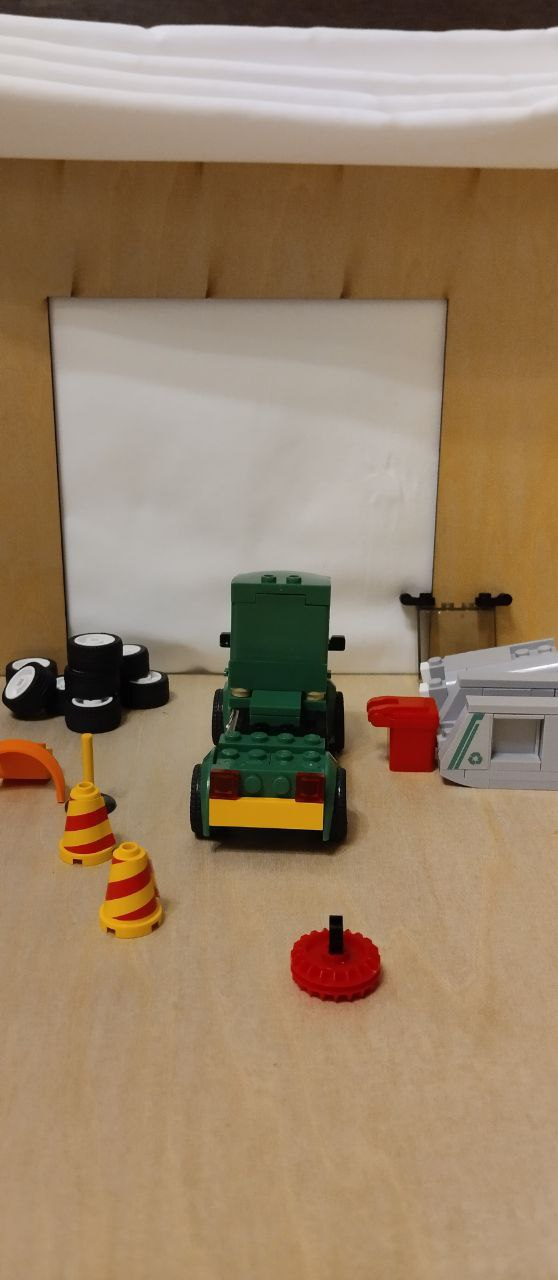Cone: (92, 842, 170, 943), (54, 781, 125, 870)
Object Red: (364, 691, 443, 780)
Truck: (186, 567, 365, 852)
